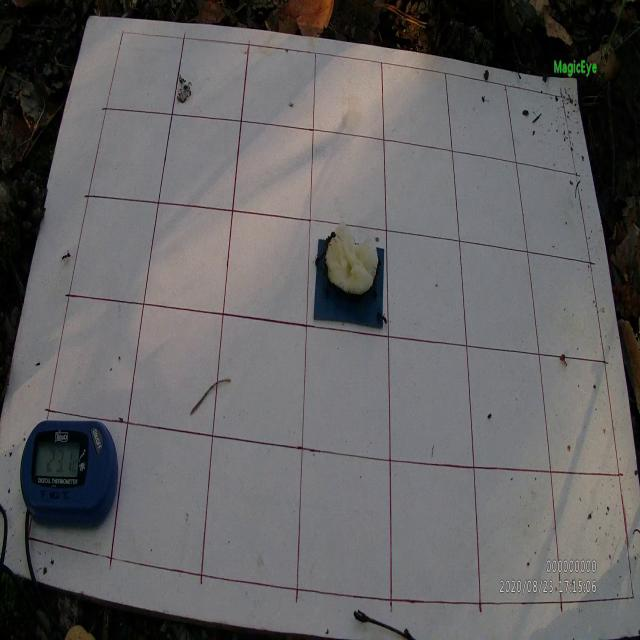Ant: (324, 230, 344, 251), (376, 310, 393, 330), (311, 249, 327, 266), (60, 250, 75, 264)
